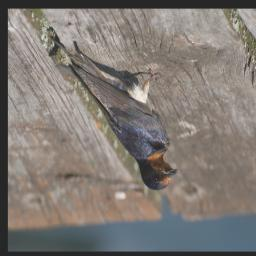Swallow: (48, 33, 178, 192)
